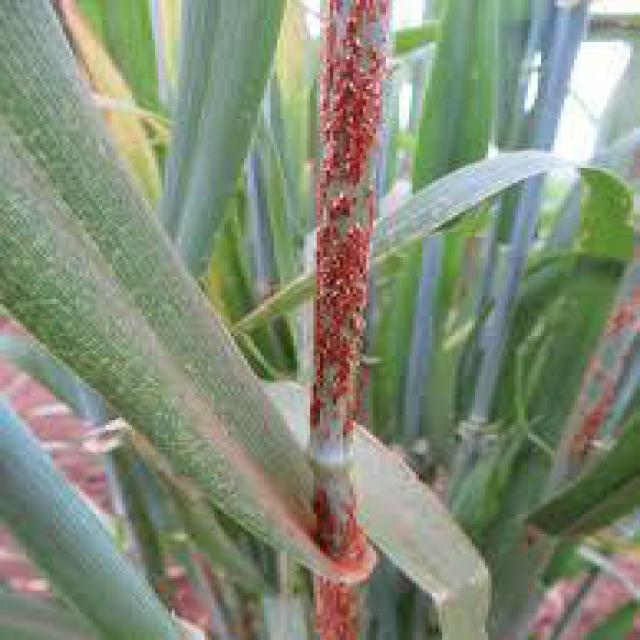wheat-stemrust: (310, 0, 396, 546)
